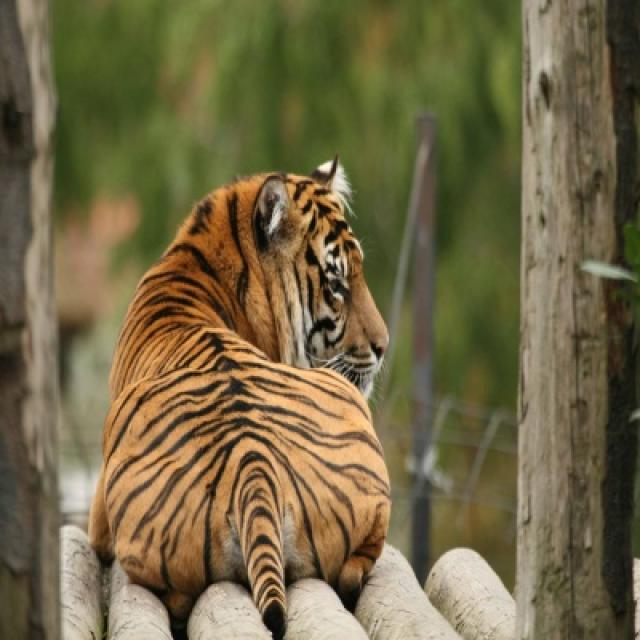Tiger: (88, 150, 399, 634)
